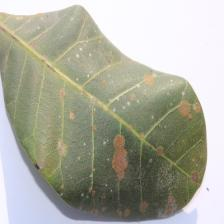red rust: (0, 4, 208, 221)
